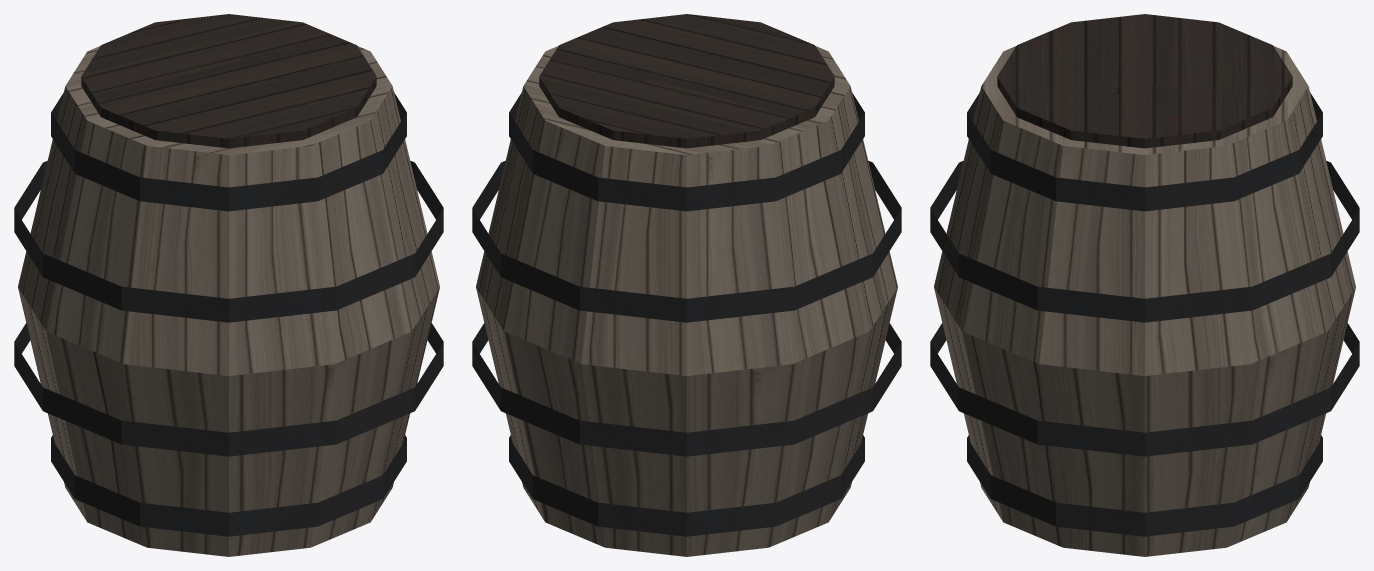
The model's file is barrel_01.glb.
The picture shows the model from 3 angles, left to right: view 1: azimuth 30°, elevation 25°; view 2: azimuth 150°, elevation 25°; view 3: azimuth 270°, elevation 25°; orthographic projection.
Parts seen in each view (by area): view 1: barrel_01; view 2: barrel_01; view 3: barrel_01.
Part boxes in pixels (x1,y1,x2,y2): barrel_01: (14,14,443,556); barrel_01: (472,14,901,556); barrel_01: (930,14,1359,556).
Size of the model in its own units: 0.814 by 0.86 by 0.814.
3 materials, 3 textured.
